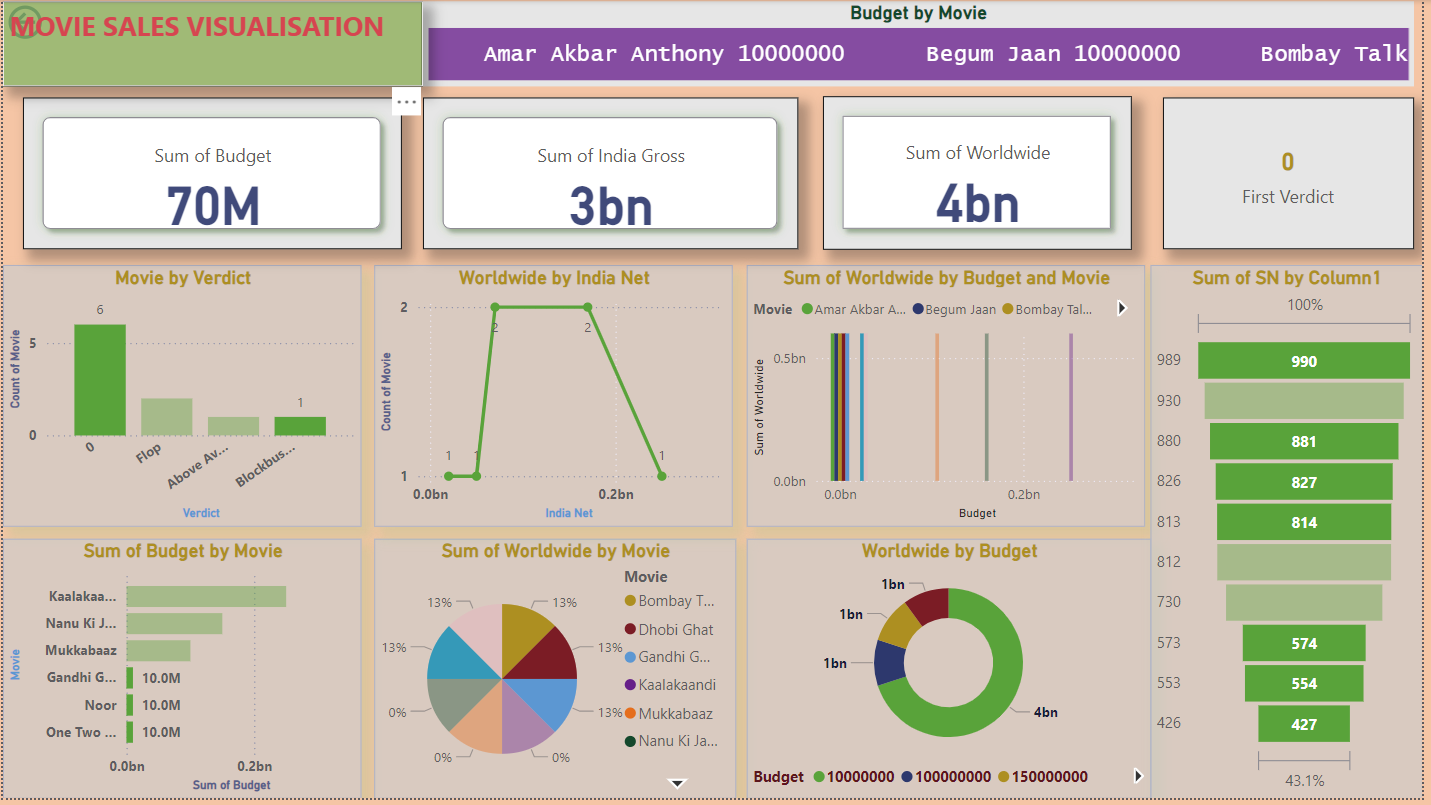

What the dashboard file says about the page in this screenshot:
{"tool":"powerbi","page":{"name":"Page 1","canvas":[1280,720],"ordinal":0},"visuals":[{"type":"clusteredColumnChart","title":" Movie by Verdict","fields":{"Category":["Top 1000 Bollywood Movies and their boxoffice.Verdict"],"Y":["CountNonNull(Top 1000 Bollywood Movies and their boxoffice.Movie)"]},"box":[0,238.6,323.6,235.8],"z":0},{"type":"clusteredBarChart","fields":{"Category":["Top 1000 Bollywood Movies and their boxoffice.Movie"],"Y":["Sum(Top 1000 Bollywood Movies and their boxoffice.Budget)"]},"box":[0,485.4,323.6,234.4],"z":1000},{"type":"pieChart","fields":{"Category":["Top 1000 Bollywood Movies and their boxoffice.Movie"],"Y":["Sum(Top 1000 Bollywood Movies and their boxoffice.Worldwide)"]},"box":[334.5,485.4,326.3,234.4],"z":2000},{"type":"lineChart","title":"Worldwide by India Net","fields":{"Category":["Top 1000 Bollywood Movies and their boxoffice.India Net"],"Y":["CountNonNull(Top 1000 Bollywood Movies and their boxoffice.Movie)"]},"box":[334.5,238.6,323.6,235.8],"z":3000},{"type":"clusteredColumnChart","fields":{"Category":["Top 1000 Bollywood Movies and their boxoffice.Budget"],"Y":["Sum(Top 1000 Bollywood Movies and their boxoffice.Worldwide)"],"Series":["Top 1000 Bollywood Movies and their boxoffice.Movie"]},"box":[670.4,238.6,359.2,235.8],"z":4000},{"type":"donutChart","title":" Worldwide by Budget","fields":{"Category":["Top 1000 Bollywood Movies and their boxoffice.Budget"],"Y":["Sum(Top 1000 Bollywood Movies and their boxoffice.Worldwide)"]},"box":[670.4,485.4,364.7,234.4],"z":5000},{"type":"cardVisual","fields":{"Data":["Sum(Top 1000 Bollywood Movies and their boxoffice.Budget)"]},"box":[17.8,87.7,341.4,137.1],"z":7001},{"type":"cardVisual","fields":{"Data":["Sum(Top 1000 Bollywood Movies and their boxoffice.India Gross)"]},"box":[378.4,87.7,338.6,137.1],"z":7002},{"type":"cardVisual","fields":{"Data":["Sum(Top 1000 Bollywood Movies and their boxoffice.Worldwide)"]},"box":[739,86.4,278.3,138.5],"z":7003},{"type":"card","fields":{"Values":["Min(Top 1000 Bollywood Movies and their boxoffice.Verdict)"]},"box":[1046.1,87.7,226.2,137.1],"z":7004},{"type":"actionButton","box":[0,0,100,40],"z":7006},{"type":"funnel","fields":{"Category":["Top 1000 Bollywood Movies and their boxoffice.Column1"],"Y":["Sum(Top 1000 Bollywood Movies and their boxoffice.SN)"]},"box":[1035.1,238.6,245.4,481.2],"z":7007},{"type":"ScrollingTextVisual1448795304508","title":"Budget by Movie","fields":{"Category":["Top 1000 Bollywood Movies and their boxoffice.Movie"],"Measure Absolute":["Sum(Top 1000 Bollywood Movies and their boxoffice.Budget)"]},"box":[378.4,1.4,893.9,76.8],"z":7008},{"type":"textbox","box":[0,1.4,378.4,76.8],"z":7009}]}

Visuals, with their boxes in screenshot pixels (x1, y1, x2, y2), scaled from the page's 1280x720 canvas onto the 1431x805 screenshot:
" Movie by Verdict" clusteredColumnChart: x1=0 y1=267 x2=362 y2=530
clusteredBarChart - Top 1000 Bollywood Movies and their boxoffice.Movie x Sum(Top 1000 Bollywood Movies and their boxoffice.Budget): x1=0 y1=543 x2=362 y2=804
pieChart - Top 1000 Bollywood Movies and their boxoffice.Movie x Sum(Top 1000 Bollywood Movies and their boxoffice.Worldwide): x1=374 y1=543 x2=739 y2=804
"Worldwide by India Net" lineChart: x1=374 y1=267 x2=736 y2=530
clusteredColumnChart - Top 1000 Bollywood Movies and their boxoffice.Budget x Sum(Top 1000 Bollywood Movies and their boxoffice.Worldwide): x1=749 y1=267 x2=1151 y2=530
" Worldwide by Budget" donutChart: x1=749 y1=543 x2=1157 y2=804
cardVisual - Sum(Top 1000 Bollywood Movies and their boxoffice.Budget): x1=20 y1=98 x2=402 y2=251
cardVisual - Sum(Top 1000 Bollywood Movies and their boxoffice.India Gross): x1=423 y1=98 x2=802 y2=251
cardVisual - Sum(Top 1000 Bollywood Movies and their boxoffice.Worldwide): x1=826 y1=97 x2=1137 y2=251
card - Min(Top 1000 Bollywood Movies and their boxoffice.Verdict): x1=1170 y1=98 x2=1422 y2=251
actionButton: x1=0 y1=0 x2=112 y2=45
funnel - Top 1000 Bollywood Movies and their boxoffice.Column1 x Sum(Top 1000 Bollywood Movies and their boxoffice.SN): x1=1157 y1=267 x2=1430 y2=804
"Budget by Movie" ScrollingTextVisual1448795304508: x1=423 y1=2 x2=1422 y2=87
textbox: x1=0 y1=2 x2=423 y2=87
